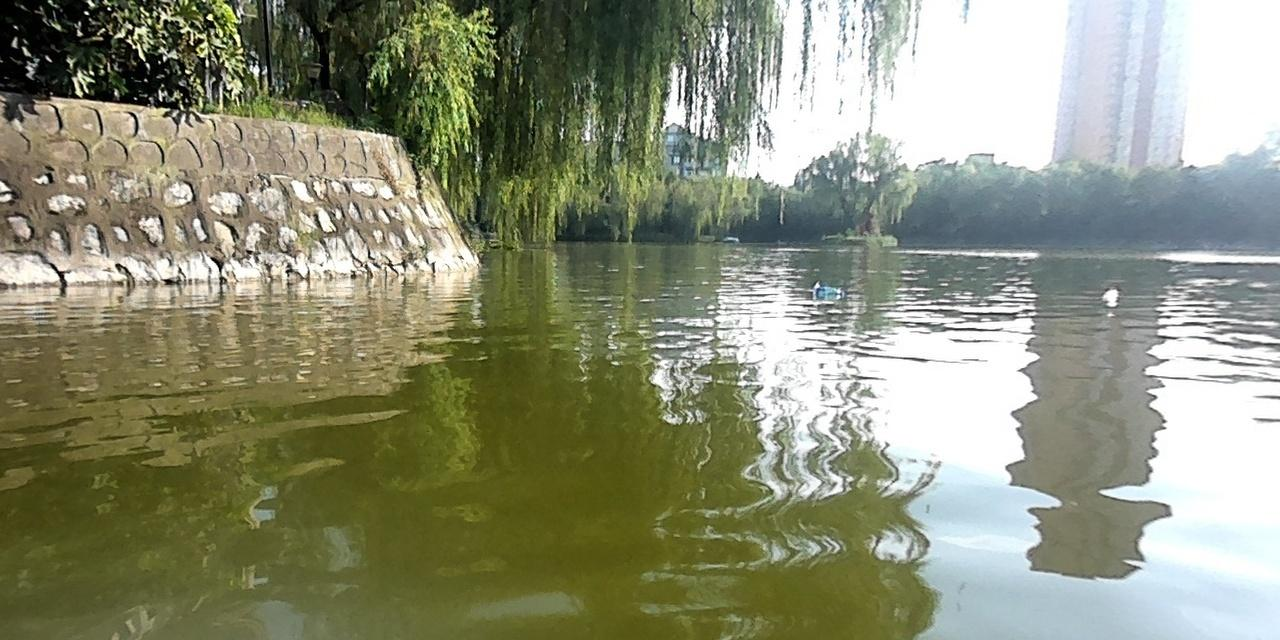bottle: (813, 282, 846, 300), (1101, 288, 1119, 302)
